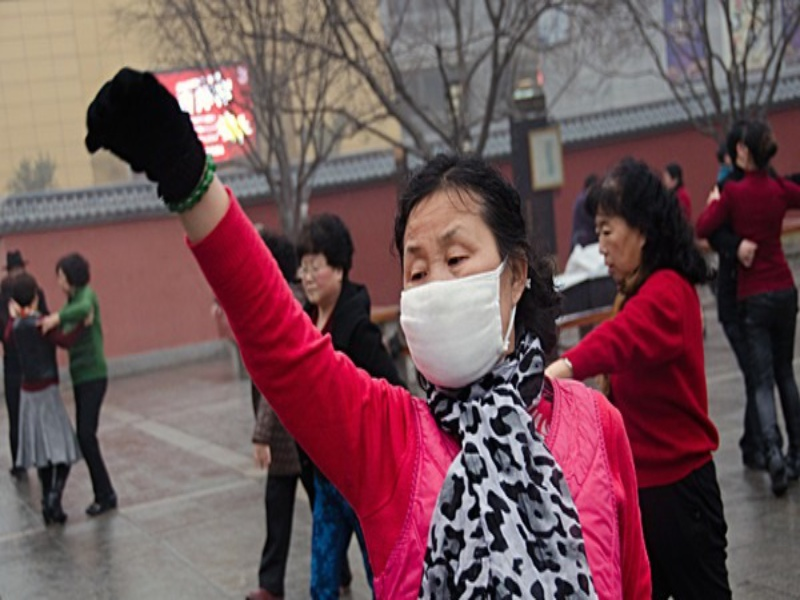mask: (400, 189, 540, 387)
